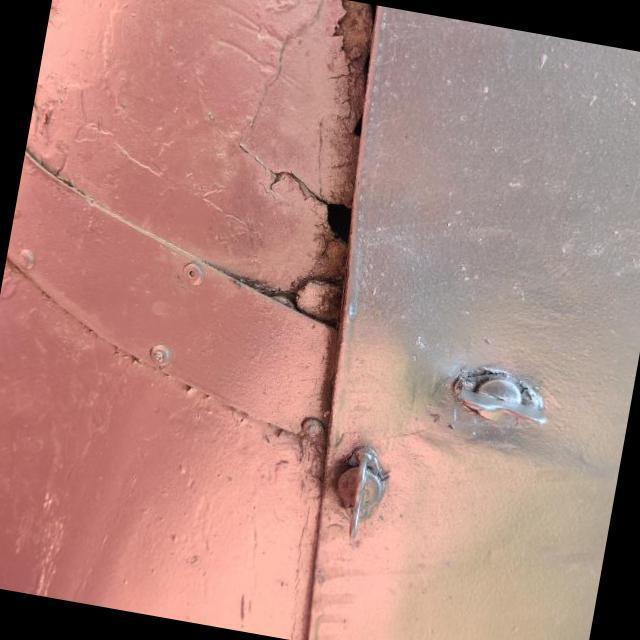Rupture: (234, 132, 373, 260)
